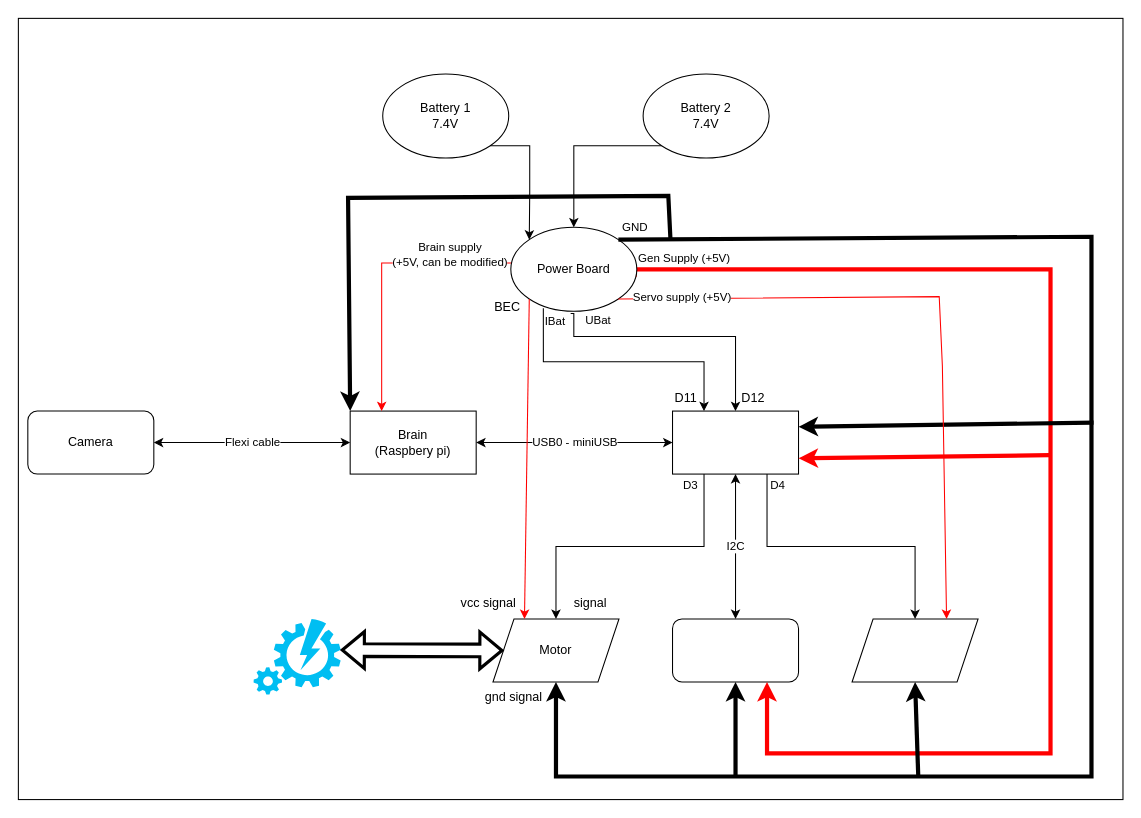
This 1141x818 diagram has some shape labels left out. The shapes that lost their labels are listed below. From the top down, each one's centre as x and y in pixels, then its label:
point 735,442: Controller (Nucleo)
point 735,650: IMU
point 914,650: Servo
